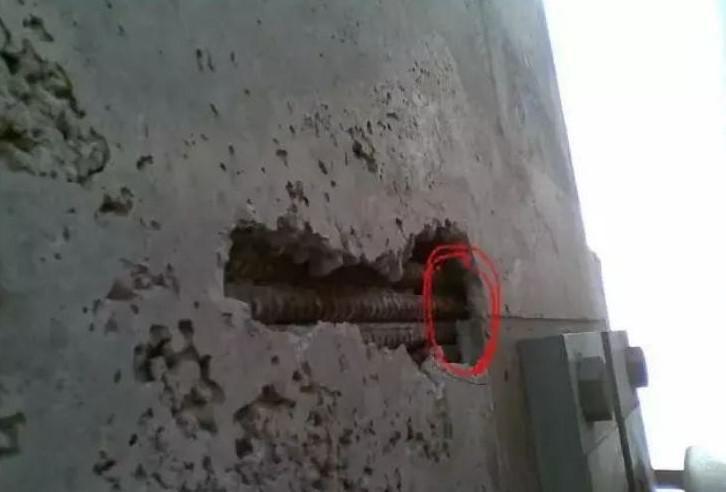Exposed reinforcement: (223, 279, 471, 321), (355, 322, 460, 346), (399, 261, 449, 287)
Spalling: (96, 43, 454, 492), (221, 215, 489, 372), (1, 1, 112, 189)
